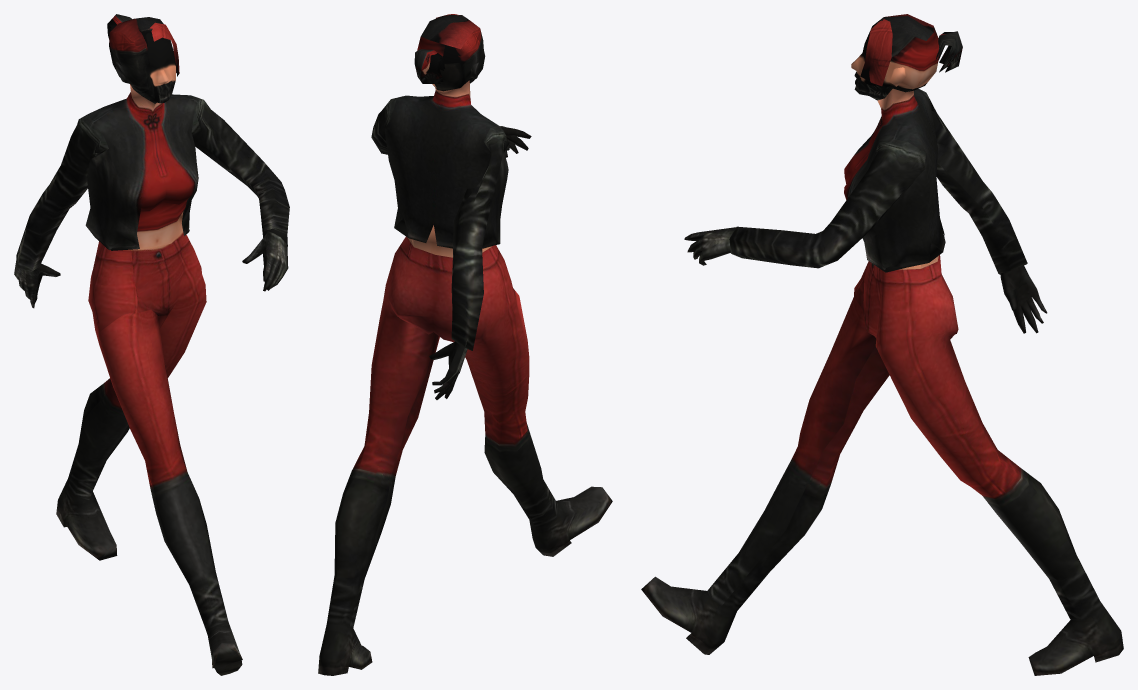
3 renders of one model, left to right at view 1: azimuth 30°, elevation 25°; view 2: azimuth 150°, elevation 25°; view 3: azimuth 270°, elevation 25°, orthographic. The views are drawn at different scales.
Visible parts, largest first — view 1: SketchUp (×5); view 2: SketchUp (×5); view 3: SketchUp (×5).
Part boxes in pixels (left/top/right/bottom): SketchUp (×5): left=14, top=17, right=289, bottom=675; SketchUp (×5): left=318, top=15, right=612, bottom=675; SketchUp (×5): left=641, top=14, right=1123, bottom=675.
Size of the model in its own units: 65.66 by 142 by 207.
Materials: 2 (2 with a texture image).
